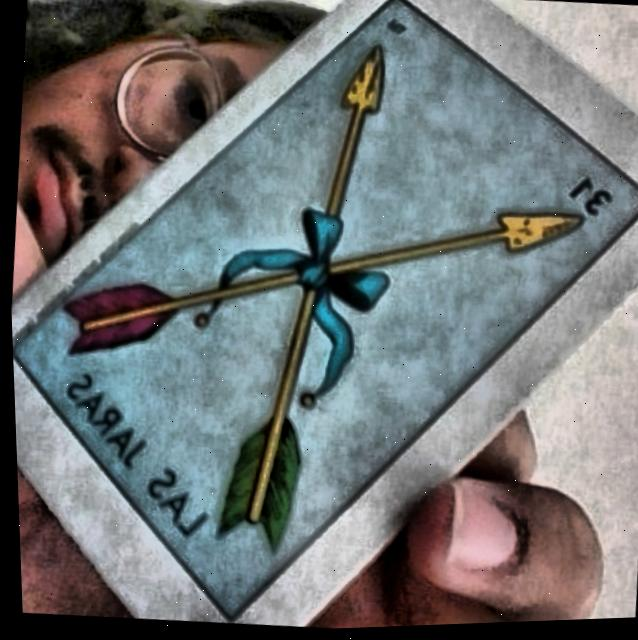Las Jaras: (15, 0, 638, 620)
